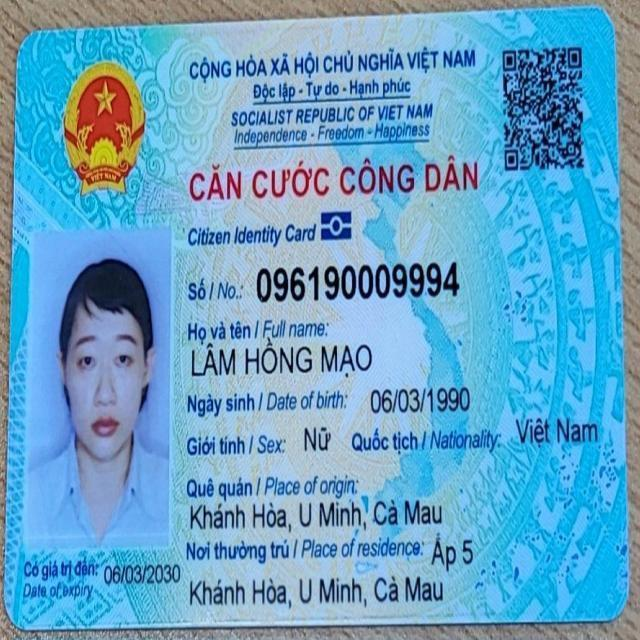current_place: (187, 571, 448, 618), (429, 535, 479, 569)
dob: (364, 384, 480, 421)
expire_date: (102, 556, 182, 594)
gender: (298, 417, 336, 460)
id: (254, 254, 463, 306)
name: (185, 338, 390, 382)
nationality: (509, 404, 600, 457)
origin_place: (185, 496, 446, 534)
